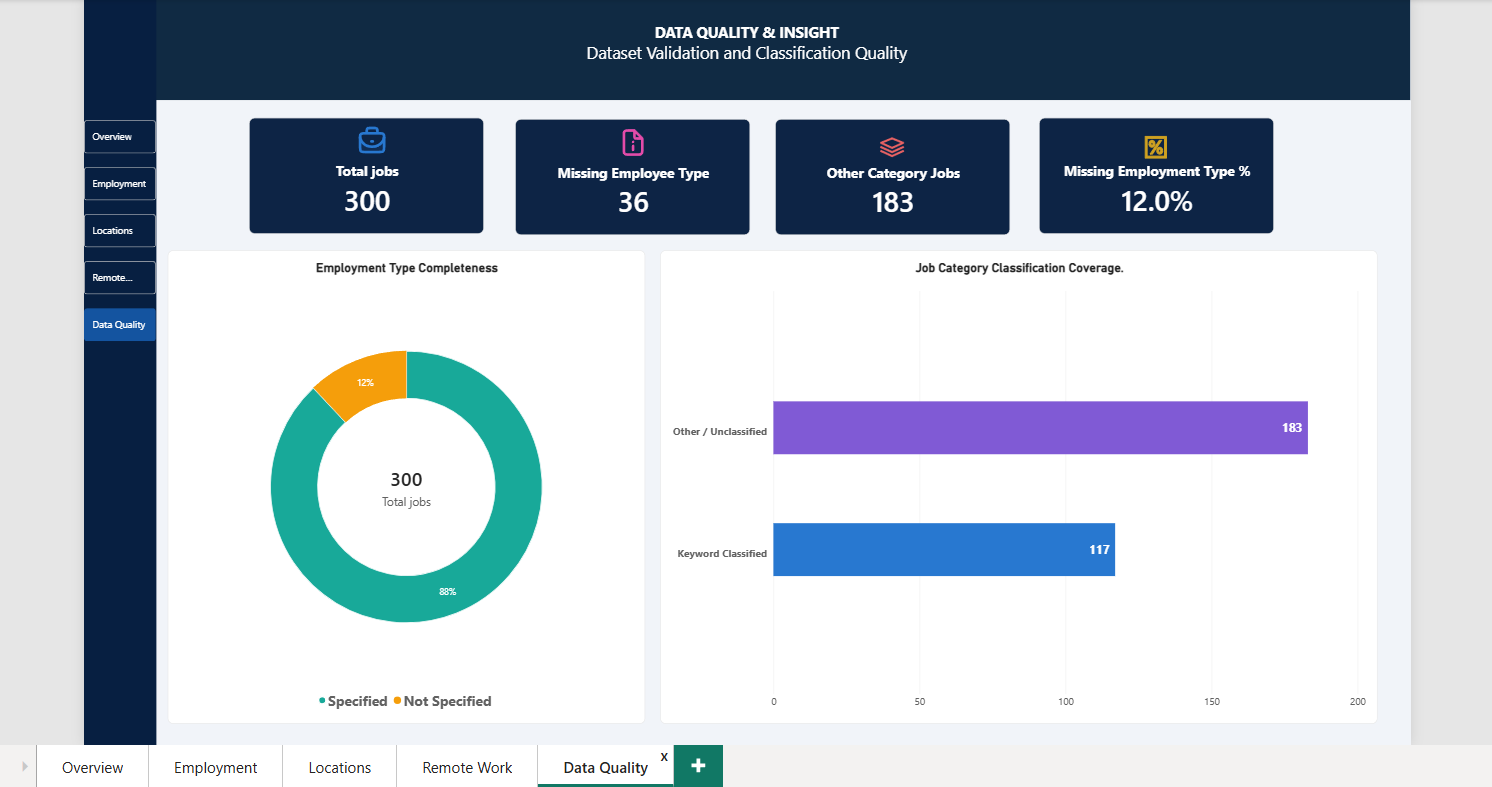

The dashboard page shown, as its layout file describes it:
{"tool":"powerbi","page":{"name":"\tData Quality","canvas":[1920,1080],"ordinal":4},"visuals":[{"type":"shape","box":[0,0,105,1080.4],"z":0,"group":"g2"},{"type":"shape","box":[0,0,1920.4,146.3],"z":0},{"type":"cardVisual","fields":{"Data":["public clean_jobs.Total jobs"]},"box":[238.9,171.9,340,168],"z":0,"group":"g1"},{"type":"cardVisual","fields":{"Data":["public clean_jobs.Missing Employee Type"]},"box":[624.3,173.7,340,168],"z":0},{"type":"textbox","box":[229.6,13,1459.3,103.7],"z":1},{"type":"pageNavigator","box":[0,175.5,105,320.3],"z":1000,"group":"g2"},{"type":"image","box":[355,181.3,124.9,46],"z":4000,"group":"g1"},{"type":"group","id":"g1","title":"Group 2","box":[238.9,171.9,340.2,168.3],"z":9004},{"type":"textbox","box":[612,456,125.9,22.2],"z":25000},{"type":"image","box":[732.9,184.6,124,46],"z":28000},{"type":"cardVisual","fields":{"Data":["public clean_jobs.Other Category Jobs"]},"box":[1000.7,173.7,340,168],"z":28001},{"type":"image","box":[1107.5,191.8,124.9,45.2],"z":28002},{"type":"cardVisual","fields":{"Data":["public clean_jobs.Missing Employment Type %"]},"box":[1382.6,171.9,340,168],"z":28003},{"type":"image","box":[1489.4,191.8,124.9,45.2],"z":28004},{"type":"donutChart","title":"Employment Type Completeness","fields":{"Category":["public clean_jobs.Employment Type Quality"],"Y":["public clean_jobs.Total jobs"]},"box":[121.2,363.7,691.3,685.9],"z":28005},{"type":"clusteredBarChart","title":"Job Category Classification Coverage.","fields":{"Category":["public clean_jobs.Classification Status"],"Y":["public clean_jobs.Total jobs"]},"box":[834.3,363.7,1038.7,685.9],"z":28006},{"type":"textbox","box":[1723,172,197,168],"z":28007},{"type":"group","id":"g2","title":"Group 2","box":[0,0,105,1080.4],"z":28008}]}

Visuals, with their boxes on the page's 1920x1080 design canvas (x1, y1, x2, y2). These are canvas units, not pixel positions in the 1492x787 screenshot, which may show the page scaled, cropped or inside an application window:
shape: BBox(0, 0, 105, 1080)
shape: BBox(0, 0, 1920, 146)
cardVisual - public clean_jobs.Total jobs: BBox(239, 172, 579, 340)
cardVisual - public clean_jobs.Missing Employee Type: BBox(624, 174, 964, 342)
textbox: BBox(230, 13, 1689, 117)
pageNavigator: BBox(0, 176, 105, 496)
image: BBox(355, 181, 480, 227)
"Group 2" group: BBox(239, 172, 579, 340)
textbox: BBox(612, 456, 738, 478)
image: BBox(733, 185, 857, 231)
cardVisual - public clean_jobs.Other Category Jobs: BBox(1001, 174, 1341, 342)
image: BBox(1108, 192, 1232, 237)
cardVisual - public clean_jobs.Missing Employment Type %: BBox(1383, 172, 1723, 340)
image: BBox(1489, 192, 1614, 237)
"Employment Type Completeness" donutChart: BBox(121, 364, 812, 1050)
"Job Category Classification Coverage." clusteredBarChart: BBox(834, 364, 1873, 1050)
textbox: BBox(1723, 172, 1920, 340)
"Group 2" group: BBox(0, 0, 105, 1080)
